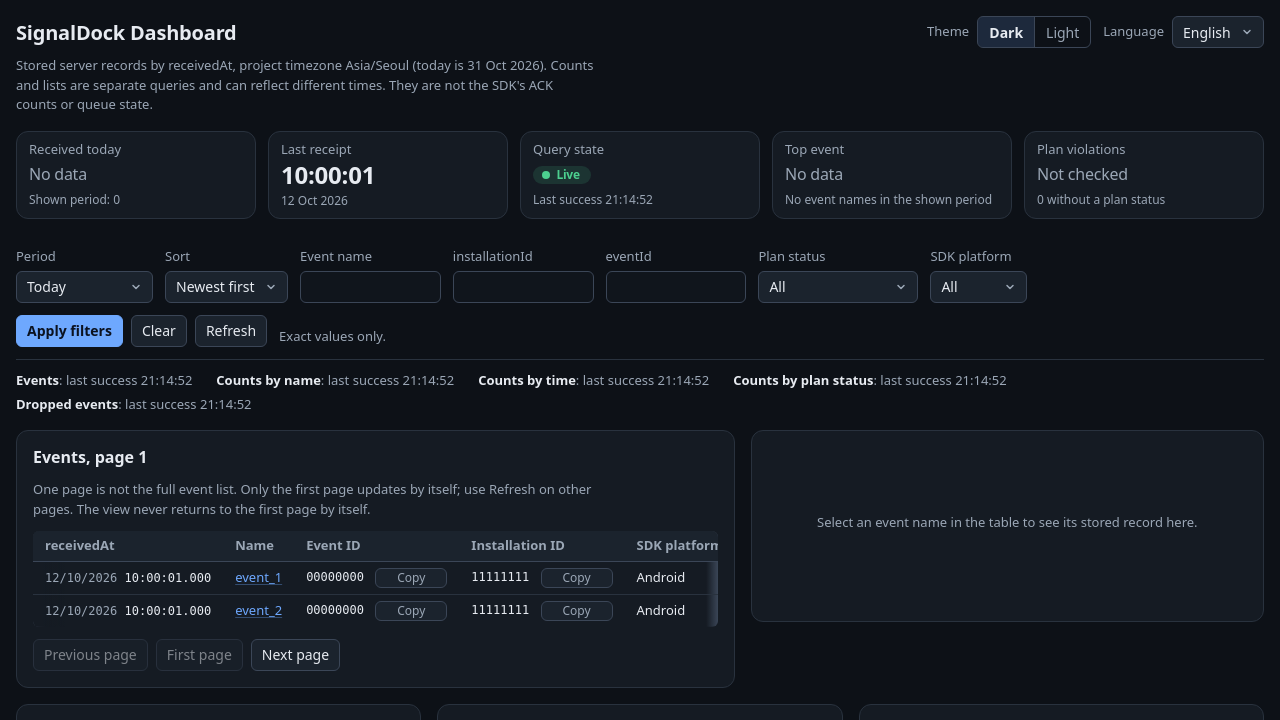
it: App (en) › shows the not-found text for a 404 and a separate retry for other errors
Click the button "event_1" at (259, 578), box left=235, top=568, right=282, bottom=587
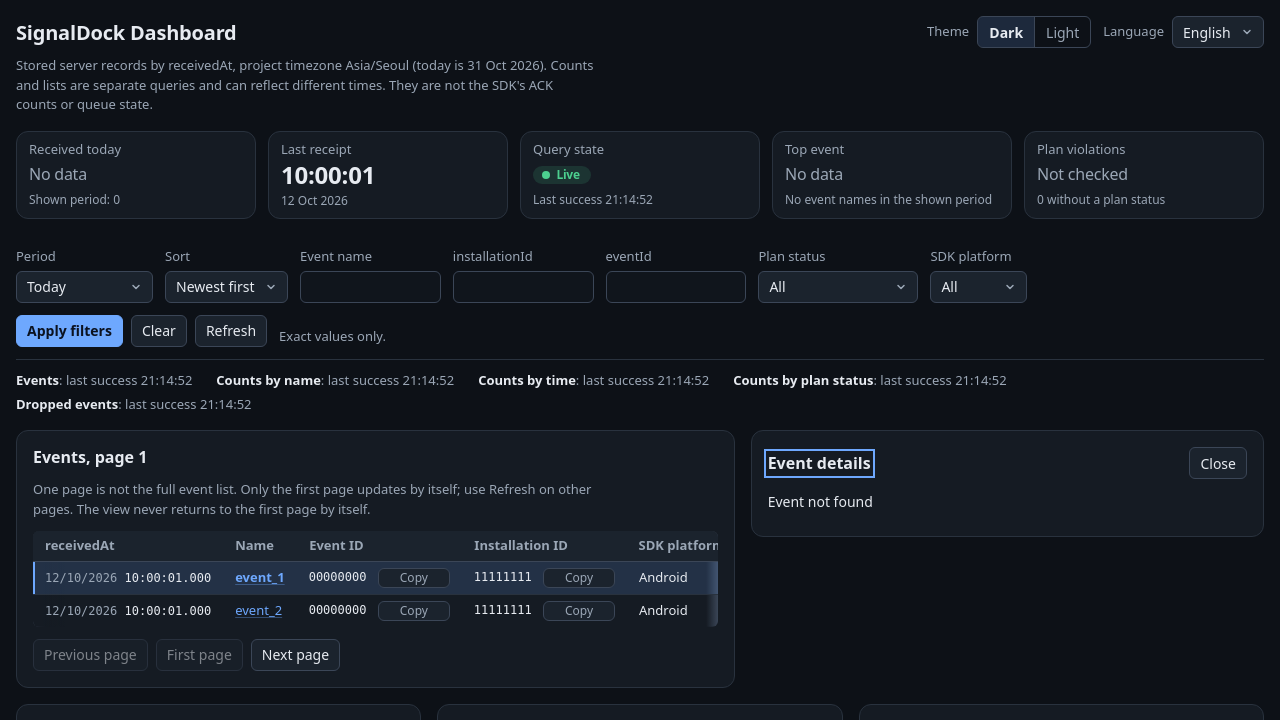
Now the text "Event not found" is shown, box left=768, top=492, right=873, bottom=511
Click the button "Close" at (1218, 463), box left=1189, top=447, right=1247, bottom=479
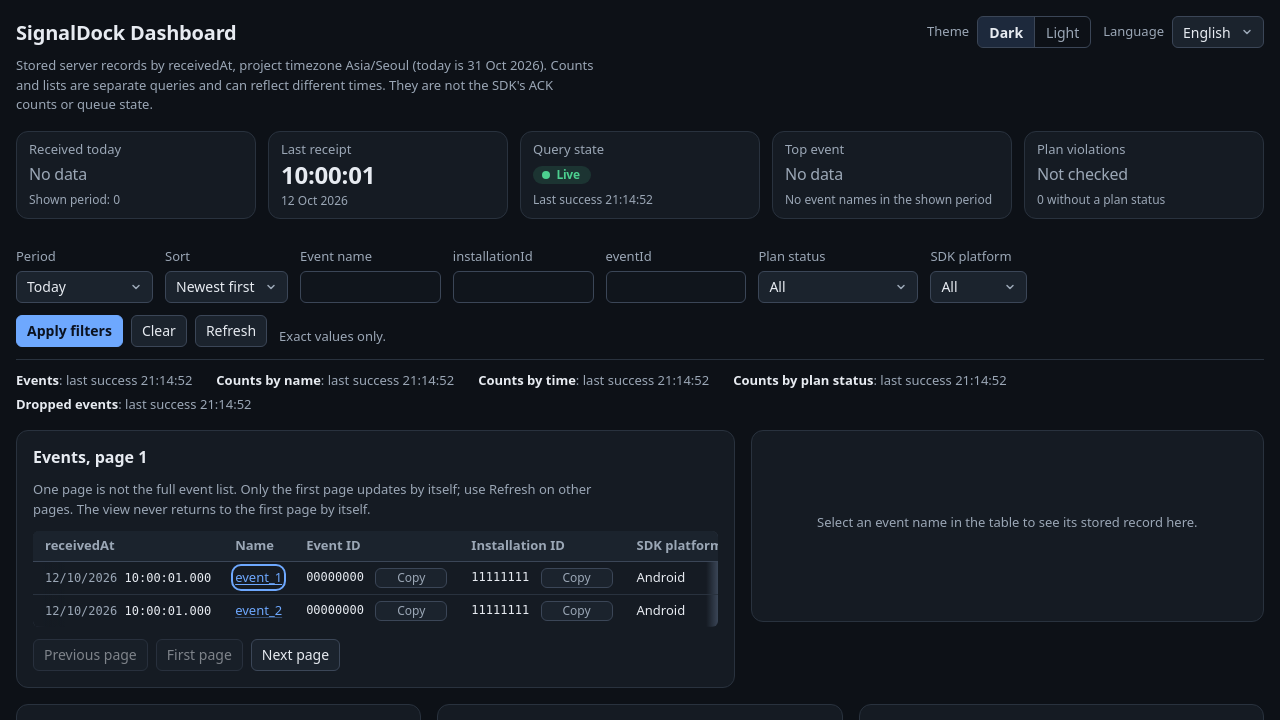
Click the button "event_1" at (259, 578), box left=235, top=568, right=282, bottom=587
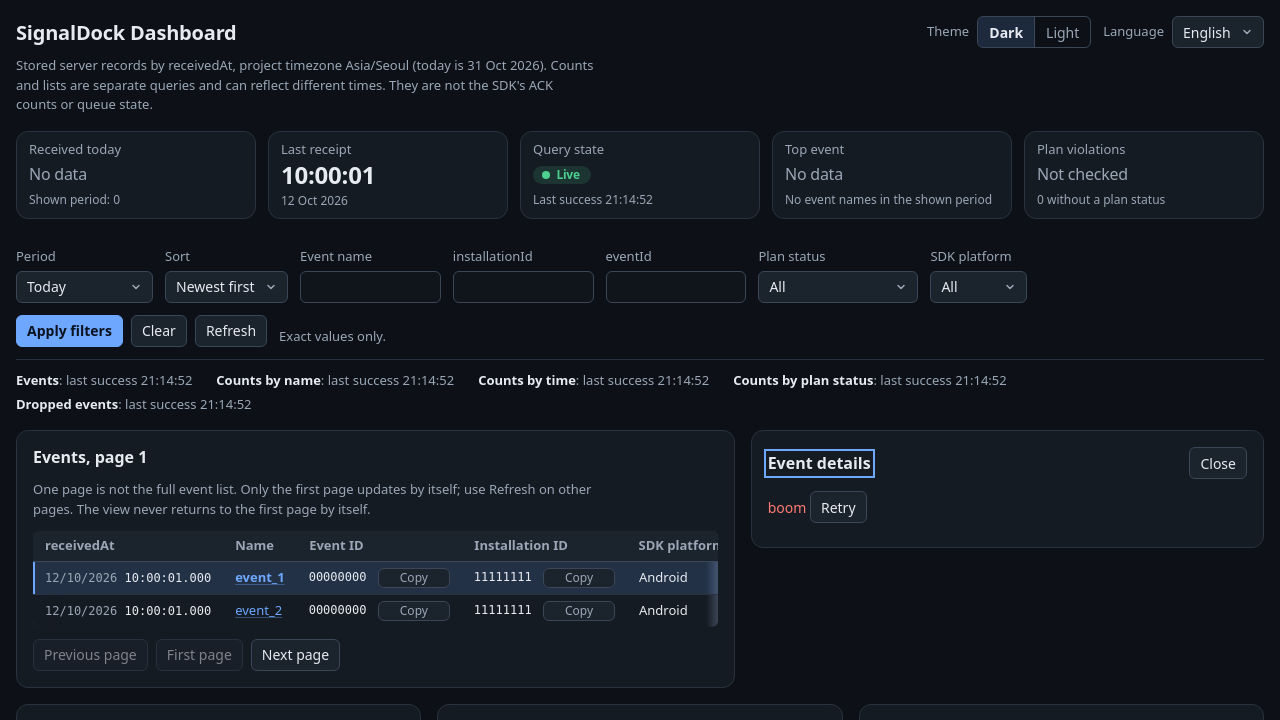
Now the text "boom Retry" is shown, box left=768, top=491, right=867, bottom=523
Now the button "Retry" is shown, box left=810, top=491, right=866, bottom=523
